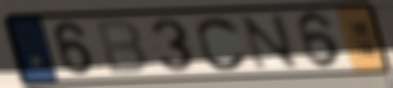3: (148, 17, 196, 74)
6: (295, 10, 345, 72), (52, 20, 97, 78)
B: (92, 18, 150, 77)
C: (194, 14, 250, 73)
N: (238, 12, 302, 72)
